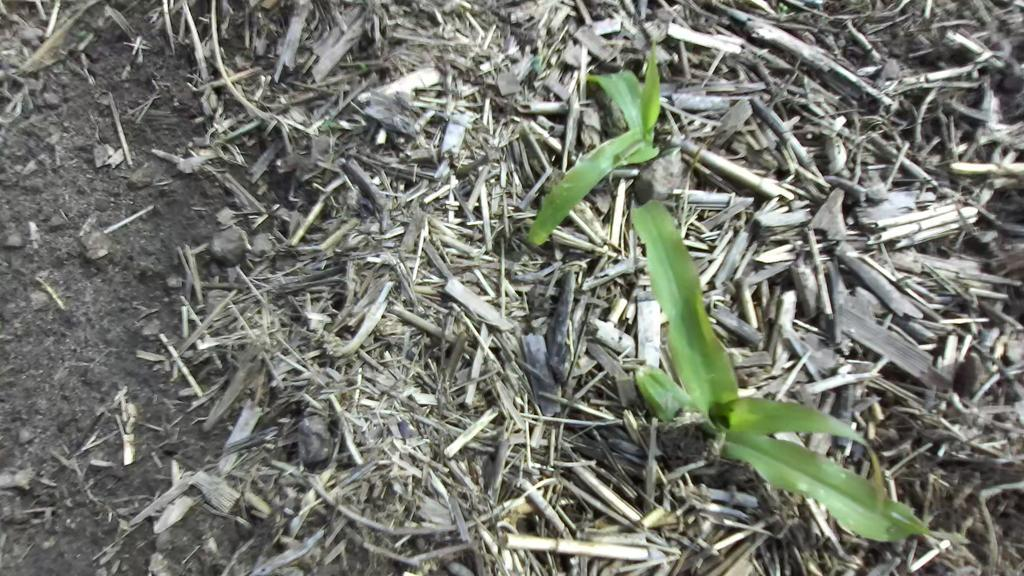BroWeed: (452, 153, 492, 182), (927, 525, 973, 546), (957, 514, 975, 537), (317, 117, 340, 133), (115, 513, 131, 532), (925, 509, 942, 523), (531, 53, 542, 74), (355, 59, 368, 71), (72, 29, 87, 38), (777, 1, 789, 11)
Maize: (543, 191, 938, 576), (514, 19, 702, 279)
